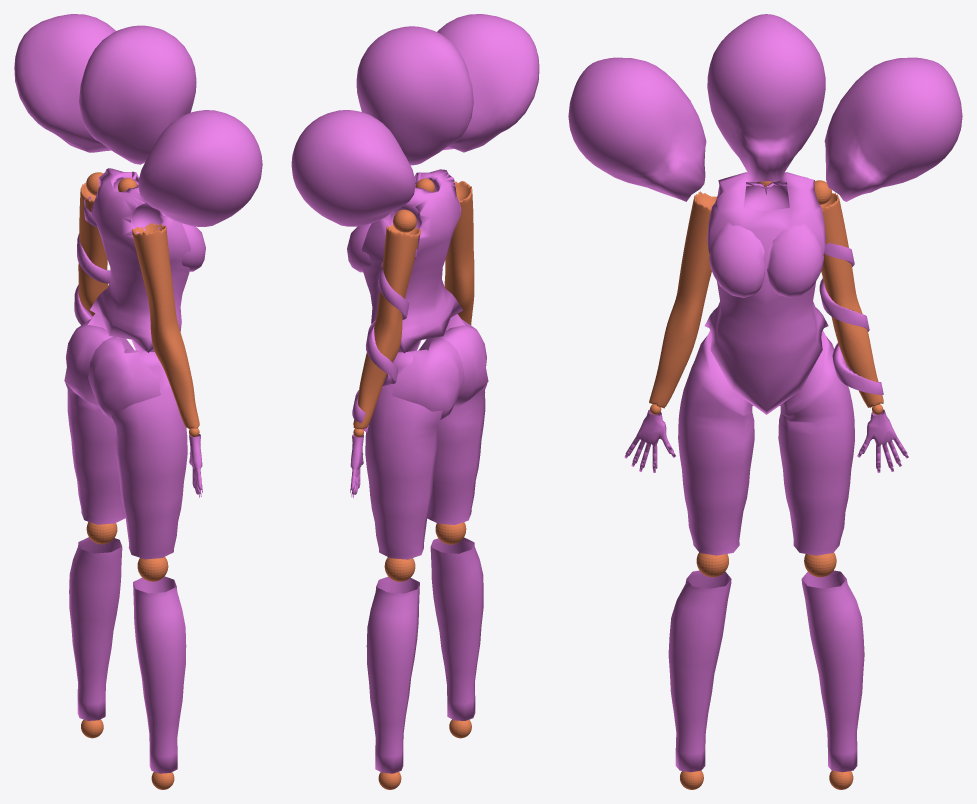
The model's file is Be-tha-nie.glb.
3 views of the same model, side by side, from view 1: azimuth 30°, elevation 25°; view 2: azimuth 150°, elevation 25°; view 3: azimuth 270°, elevation 25° (orthographic). The views are drawn at different scales.
Visible parts, largest first — view 1: Plane, Sphere, Sphere.003, Cube, Sphere.001, Cylinder.001, Sphere.006, Spiral.001, Sphere.007, Circle; view 2: Plane, Sphere, Sphere.001, Cube, Sphere.003, Cylinder.001, Spiral.001, Sphere.006, Sphere.007, Circle, Sphere.005; view 3: Plane, Cube, Sphere.003, Sphere, Sphere.001, Cylinder.001, Circle, Spiral.001, Sphere.006, Sphere.007.
Boxes of the visible parts, x1,y1,x2,y2 form: Plane: (64, 313, 187, 773); Sphere: (79, 25, 196, 164); Sphere.003: (138, 110, 262, 226); Cube: (90, 168, 205, 352); Sphere.001: (14, 14, 115, 152); Cylinder.001: (78, 182, 199, 429); Sphere.006: (86, 522, 168, 581); Spiral.001: (74, 196, 110, 325); Sphere.007: (81, 719, 174, 789); Circle: (189, 434, 202, 497); Plane: (365, 314, 488, 773); Sphere: (356, 26, 473, 165); Sphere.001: (291, 110, 415, 226); Cube: (347, 169, 462, 353); Sphere.003: (437, 14, 539, 152); Cylinder.001: (353, 181, 474, 429); Spiral.001: (352, 234, 419, 432); Sphere.006: (384, 522, 466, 581); Sphere.007: (378, 719, 471, 789); Circle: (350, 392, 485, 497); Sphere.005: (393, 209, 416, 232); Plane: (668, 330, 864, 772); Cube: (704, 172, 828, 414); Sphere.003: (568, 57, 706, 201); Sphere: (707, 14, 825, 181); Sphere.001: (824, 57, 962, 201); Cylinder.001: (649, 191, 883, 408); Circle: (624, 409, 908, 472); Spiral.001: (819, 243, 883, 395); Sphere.006: (696, 552, 836, 577); Sphere.007: (680, 770, 853, 789).
Size of the model in its own units: 0.6737 by 4.29 by 1.99.
